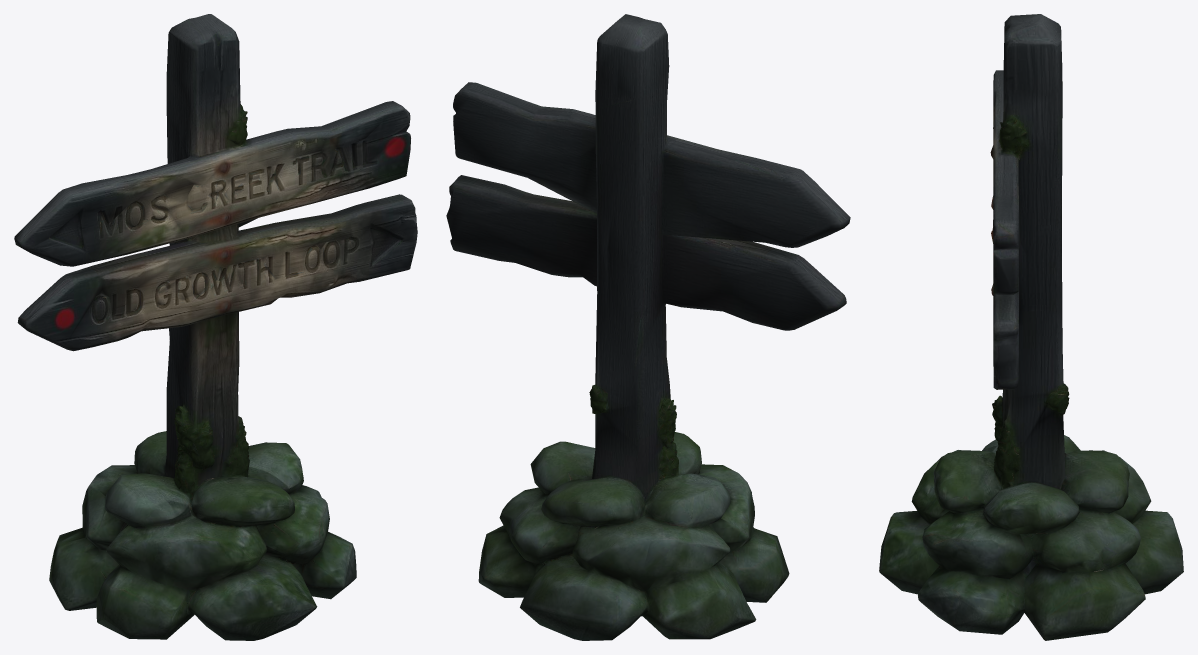
Rendered from signpost.glb.
3 views of the same model, side by side, from view 1: azimuth 30°, elevation 25°; view 2: azimuth 150°, elevation 25°; view 3: azimuth 270°, elevation 25° (orthographic).
Visible parts, largest first — view 1: Mesh_0; view 2: Mesh_0; view 3: Mesh_0.
Part boxes in pixels (<box>): Mesh_0: <box>14,14,417,640</box>; Mesh_0: <box>446,14,850,640</box>; Mesh_0: <box>879,14,1183,640</box>.
Bounding box in the file's own units: 1.41 × 1.91 × 0.9445.
1 material, 1 textured.
